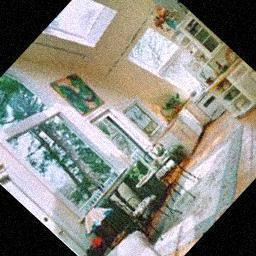Puerta: (88, 102, 160, 171)
